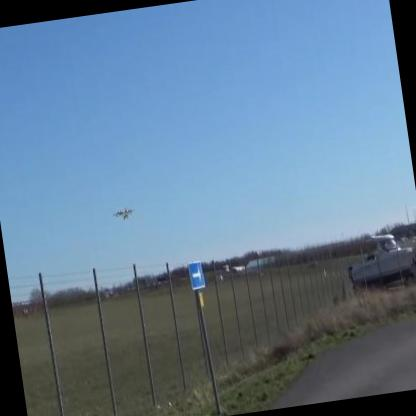plane: (111, 203, 140, 226)
